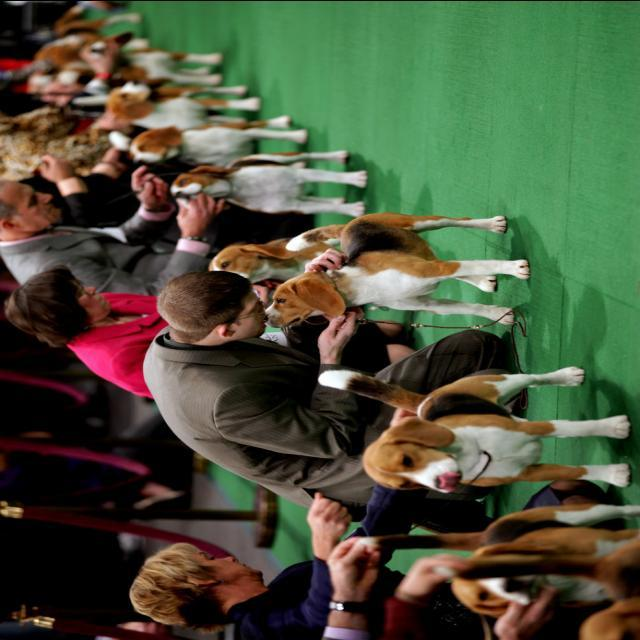Dogs: (313, 363, 640, 493), (267, 204, 537, 334), (208, 215, 426, 317), (436, 532, 640, 640), (452, 498, 640, 613), (170, 144, 376, 218), (89, 78, 268, 140), (127, 119, 316, 170), (78, 28, 228, 92), (35, 0, 149, 65)
